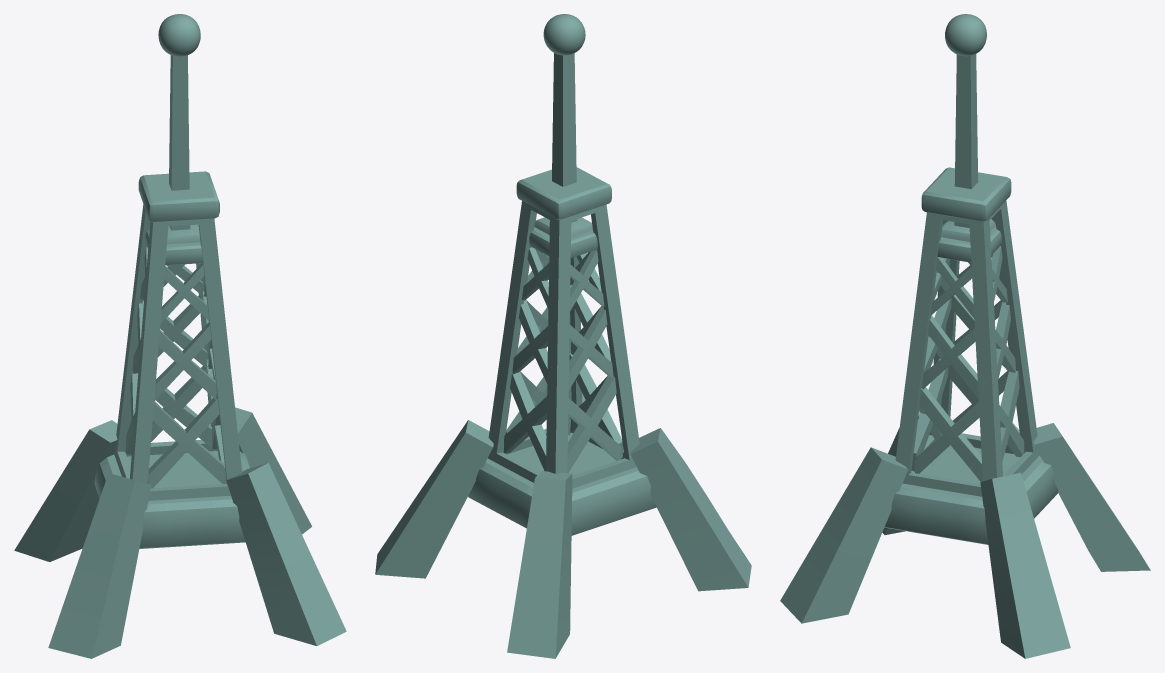
File: transmitter.fbx
3 views of the same model, side by side, from view 1: azimuth 30°, elevation 25°; view 2: azimuth 150°, elevation 25°; view 3: azimuth 270°, elevation 25° (orthographic). The views are drawn at different scales.
Parts seen in each view (by area): view 1: transmitter; view 2: transmitter; view 3: transmitter.
Boxes of the visible parts, box(x1,y1,x2,y2) form: transmitter: box(14, 14, 346, 658); transmitter: box(375, 14, 751, 658); transmitter: box(780, 14, 1150, 658).
Size of the model in its own units: 1139 by 1950 by 1147.
